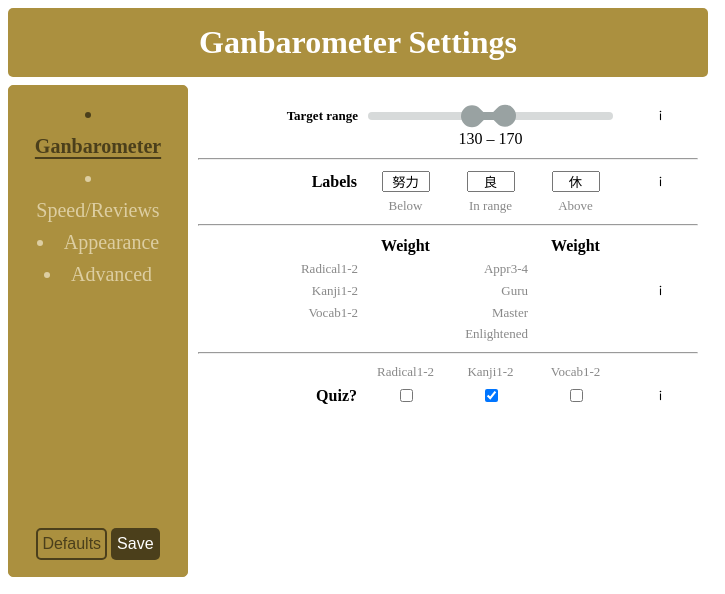
it: Settings Form › Renders the Appearance dialog when clicked › Displays a color sample
Click the list item "Appearance" at (112, 242), box [64, 231, 159, 253]
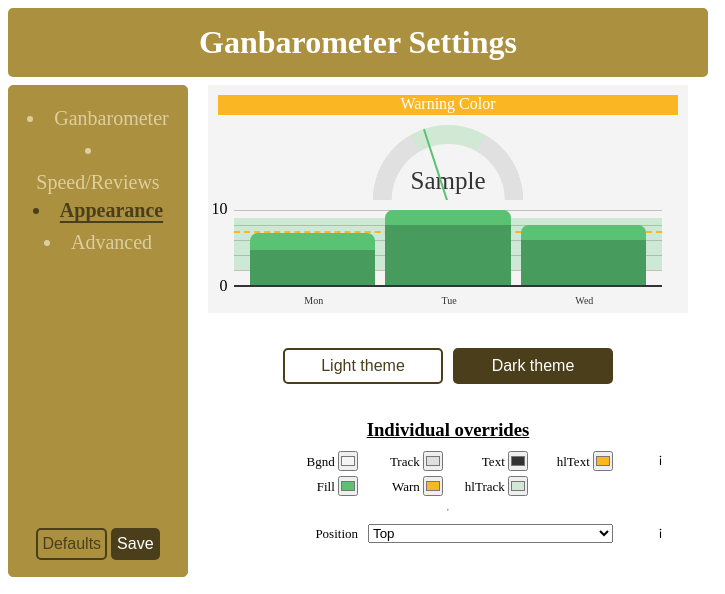
Check: the element with test id "colorSample" is shown, box [208, 85, 688, 313]
